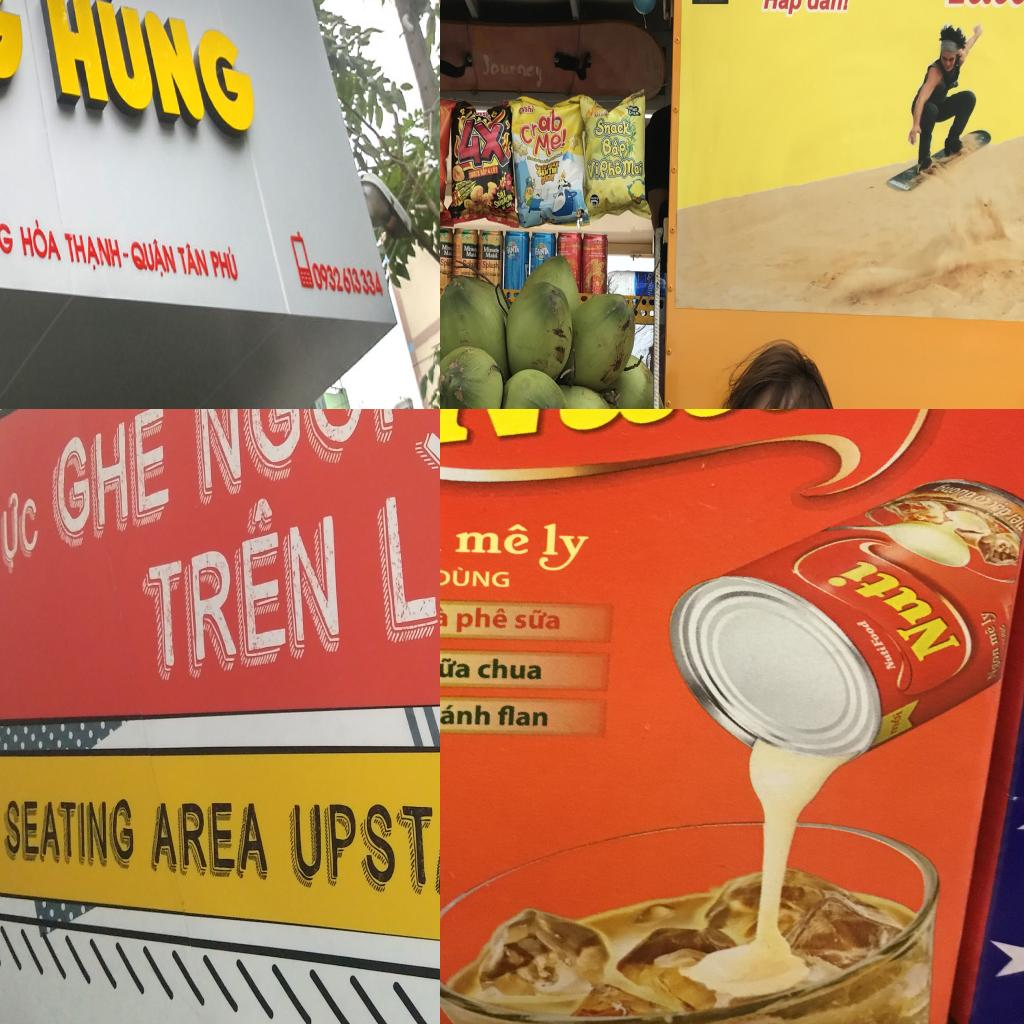text: (140, 477, 341, 682), (452, 409, 686, 553), (33, 0, 257, 143), (195, 409, 395, 502), (54, 409, 178, 543), (377, 409, 440, 637), (151, 802, 270, 876), (4, 799, 134, 863), (776, 538, 838, 640), (786, 422, 866, 468), (440, 728, 499, 785), (0, 485, 39, 568), (456, 115, 512, 169), (784, 470, 832, 530), (62, 230, 124, 274), (129, 238, 180, 280), (482, 55, 542, 90), (516, 105, 564, 148), (18, 217, 62, 261), (844, 486, 872, 547), (966, 461, 998, 512), (898, 488, 936, 528), (176, 242, 212, 280), (963, 556, 992, 600), (209, 246, 241, 284), (895, 560, 926, 599), (530, 128, 568, 158), (735, 696, 767, 730), (967, 514, 994, 553), (900, 448, 929, 484), (592, 116, 633, 138), (604, 754, 633, 785), (847, 552, 870, 585), (761, 0, 805, 16), (897, 532, 926, 554), (600, 137, 628, 159), (599, 158, 623, 182), (804, 0, 853, 11), (621, 157, 643, 180), (494, 193, 514, 210), (778, 748, 795, 768), (586, 158, 600, 180), (794, 751, 809, 767), (472, 112, 493, 123), (794, 734, 806, 752), (765, 746, 778, 762), (761, 733, 777, 746), (482, 260, 500, 270), (453, 188, 462, 206), (496, 188, 508, 200), (518, 105, 534, 114), (506, 245, 520, 255), (777, 738, 791, 748), (440, 258, 451, 270), (534, 248, 550, 256), (547, 160, 559, 170), (468, 170, 481, 179), (595, 109, 608, 118), (535, 170, 549, 178), (464, 245, 478, 253), (484, 247, 500, 254), (647, 284, 654, 298), (526, 155, 538, 163), (540, 174, 548, 186), (485, 252, 498, 259), (548, 166, 558, 175), (480, 166, 488, 177), (491, 164, 499, 175), (442, 244, 453, 252), (548, 174, 556, 183), (626, 106, 638, 112), (628, 111, 640, 117), (466, 252, 477, 258), (556, 151, 564, 159), (470, 260, 478, 268), (461, 270, 471, 276), (550, 154, 557, 162), (535, 163, 542, 171), (541, 163, 548, 171), (444, 250, 453, 256), (559, 235, 568, 241), (506, 202, 512, 210), (440, 269, 448, 275), (506, 179, 512, 186), (537, 158, 544, 164), (482, 272, 490, 277), (544, 158, 550, 164), (490, 273, 497, 278), (502, 204, 506, 212), (590, 197, 600, 200), (470, 272, 477, 276), (488, 168, 491, 176), (497, 272, 501, 278)
